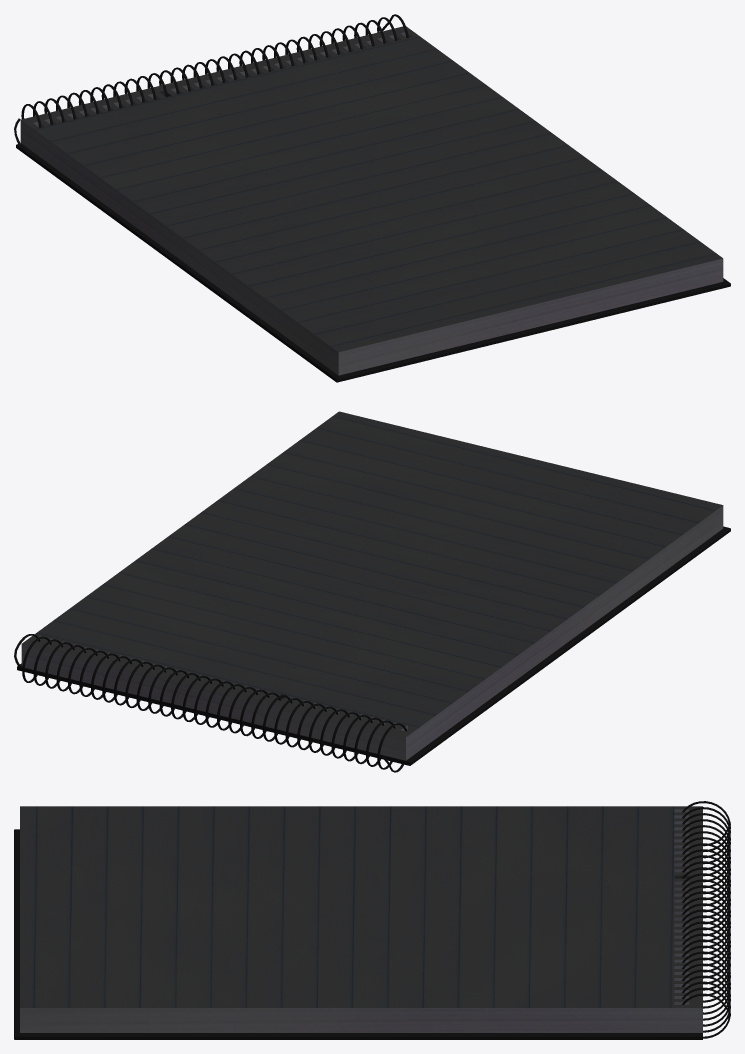
File: notepad.glb
3 renders of one model, top to bottom at view 1: azimuth 30°, elevation 25°; view 2: azimuth 150°, elevation 25°; view 3: azimuth 270°, elevation 25°, orthographic. The views are drawn at different scales.
Visible parts, largest first — view 1: Paper, Cartonage, Binding; view 2: Paper, Binding, Cartonage; view 3: Paper, Binding, Cartonage.
Boxes of the visible parts, box(x1,y1,x2,y2) form: Paper: box(20, 26, 723, 375); Cartonage: box(16, 143, 730, 382); Binding: box(14, 14, 408, 143); Paper: box(21, 411, 723, 760); Binding: box(14, 634, 407, 772); Cartonage: box(17, 526, 730, 765); Paper: box(20, 806, 702, 1032); Binding: box(682, 801, 730, 1038); Cartonage: box(14, 829, 702, 1039).
Bounding box in the file's own units: 0.1061 × 0.0114 × 0.1554.
4 materials, 3 textured.
